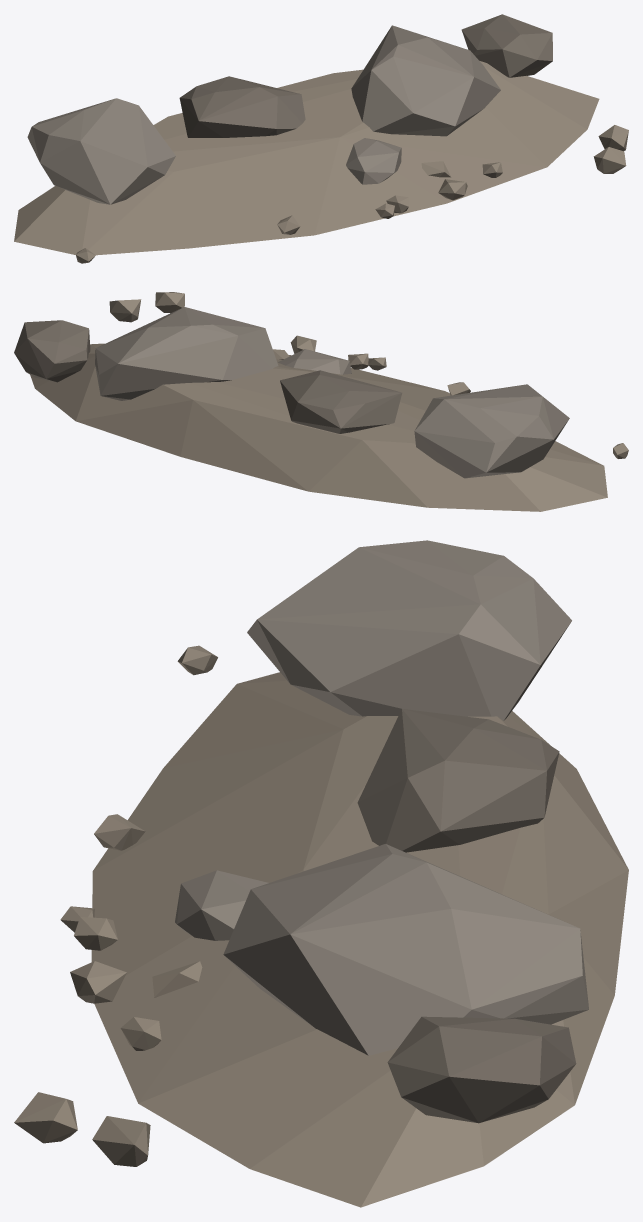
File: Rubble_Skirt.fbx
3 views of the same model, one above another, from view 1: azimuth 30°, elevation 25°; view 2: azimuth 150°, elevation 25°; view 3: azimuth 270°, elevation 25° (orthographic). The views are drawn at different scales.
Visible parts, largest first — view 1: Gravel, Cliff, CliffDark; view 2: Gravel, Cliff, CliffDark; view 3: Gravel, Cliff, CliffDark.
Part boxes in pixels (bbox=[...]): Gravel: bbox=[14, 61, 628, 263]; Cliff: bbox=[27, 25, 500, 204]; CliffDark: bbox=[179, 14, 552, 137]; Gravel: bbox=[30, 292, 628, 511]; Cliff: bbox=[95, 307, 569, 478]; CliffDark: bbox=[14, 320, 402, 433]; Gravel: bbox=[14, 645, 628, 1207]; Cliff: bbox=[175, 540, 588, 1055]; CliffDark: bbox=[357, 709, 576, 1123].
Bounding box in the file's own units: 7.76 × 1.12 × 3.62.
